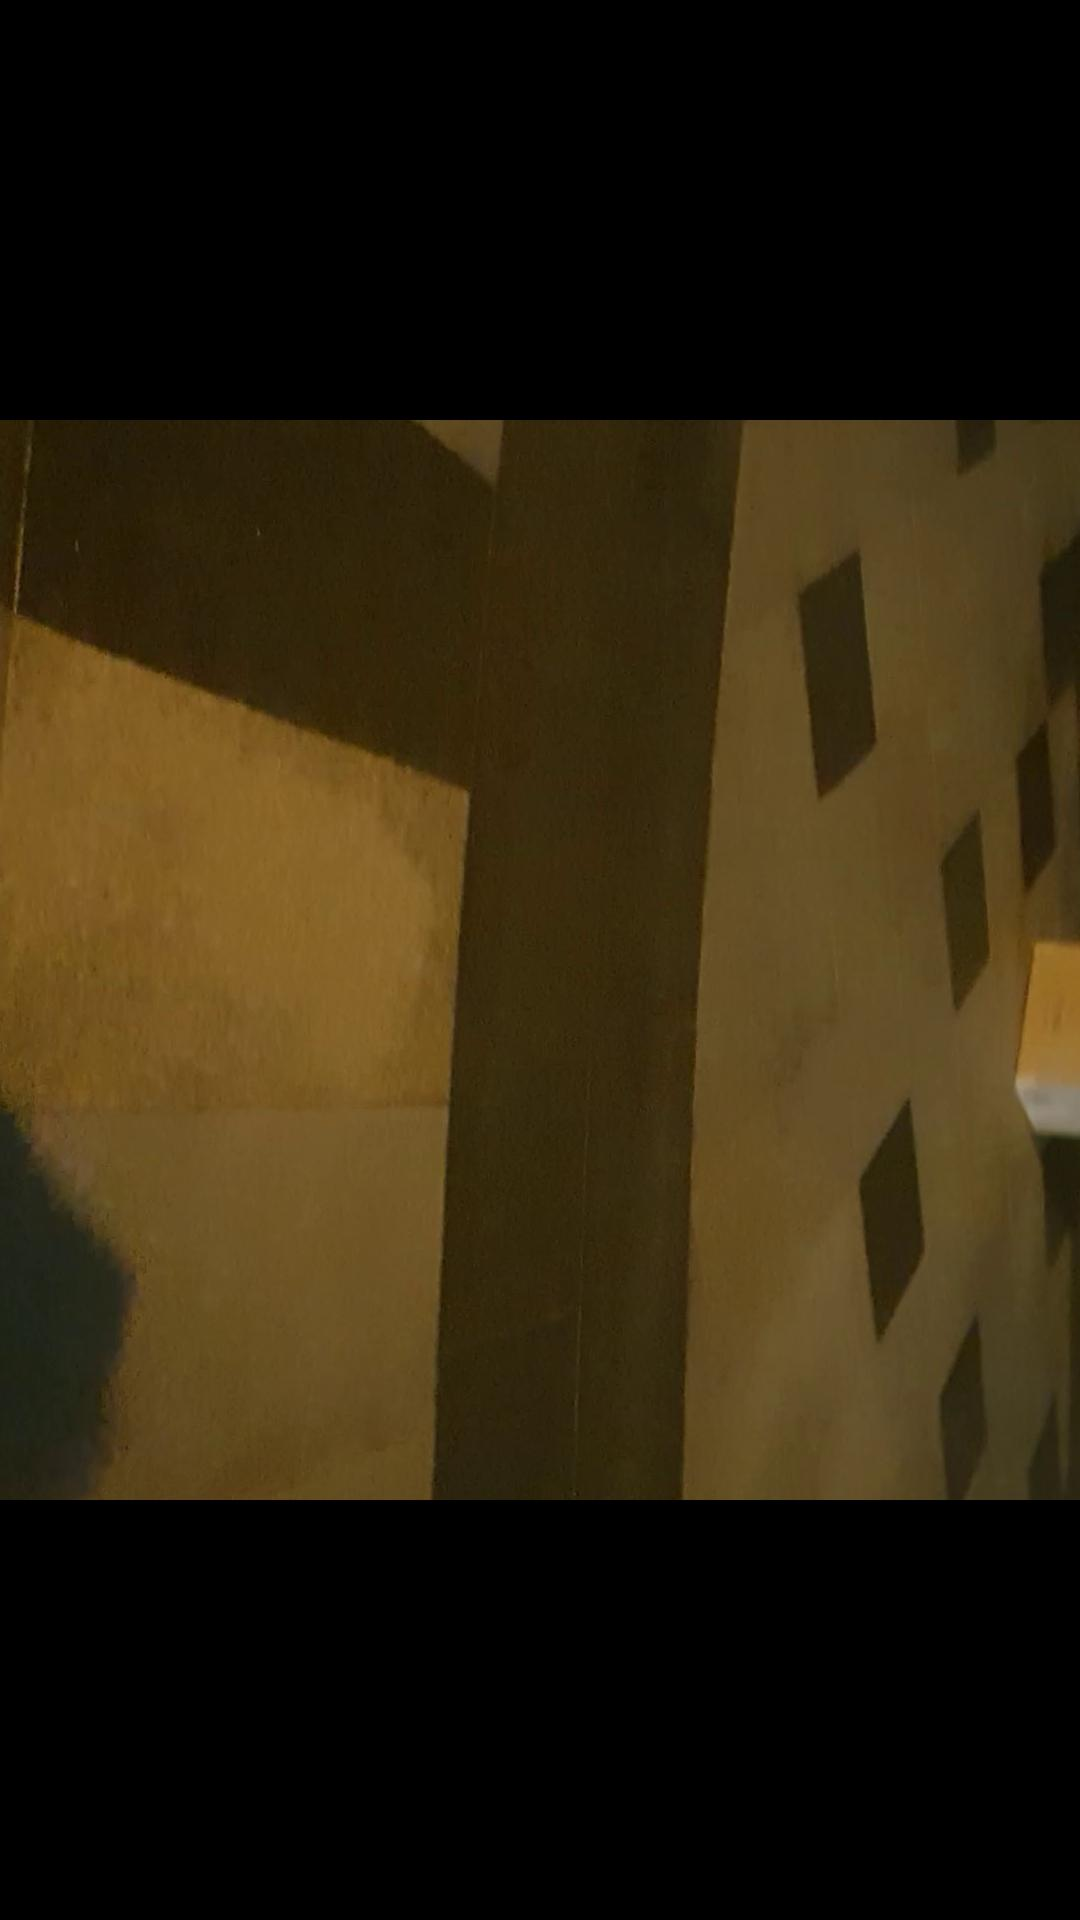Box: (990, 936, 1080, 1150), (1063, 691, 1080, 803)
